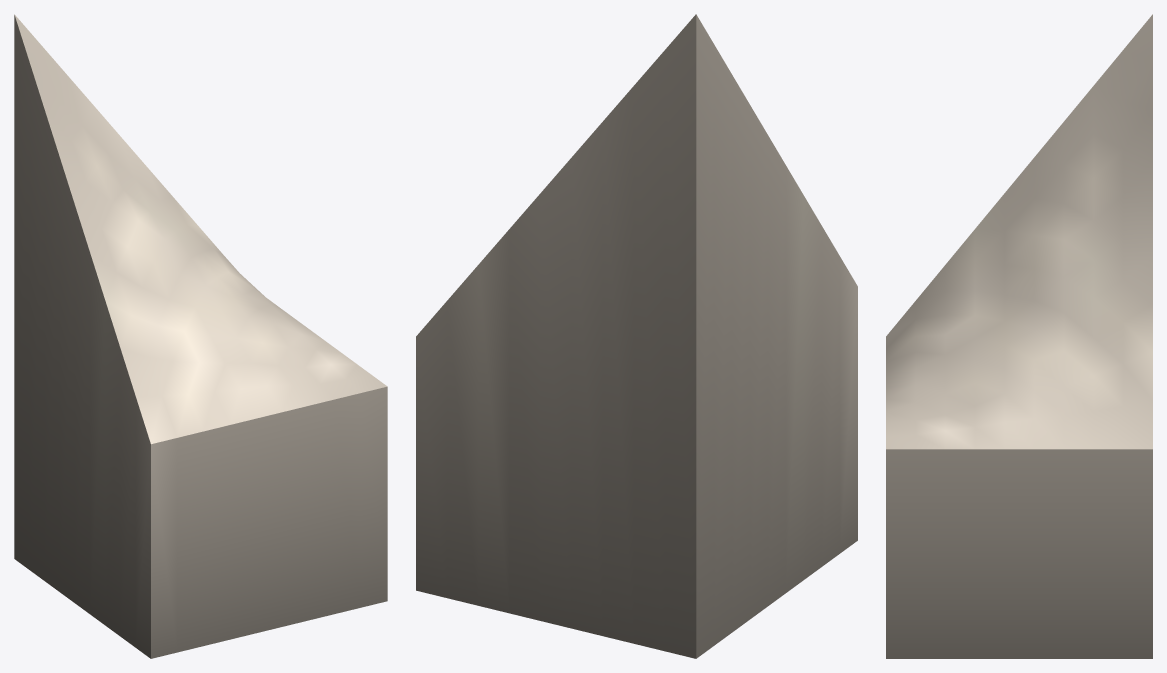
The model's file is SM_VKI_Rock_Cave_CCCF_B.fbx.
The picture shows the model from 3 angles, left to right: view 1: azimuth 30°, elevation 25°; view 2: azimuth 150°, elevation 25°; view 3: azimuth 270°, elevation 25°; orthographic projection. The views are drawn at different scales.
Visible parts, largest first — view 1: SM_VKI_Rock_Cave_CCCF_B.001; view 2: SM_VKI_Rock_Cave_CCCF_B.001; view 3: SM_VKI_Rock_Cave_CCCF_B.001.
Boxes of the visible parts, x1,y1,x2,y2 form: SM_VKI_Rock_Cave_CCCF_B.001: [14, 14, 387, 658]; SM_VKI_Rock_Cave_CCCF_B.001: [416, 14, 857, 658]; SM_VKI_Rock_Cave_CCCF_B.001: [886, 14, 1152, 658].
Size of the model in its own units: 1.5 by 3.3 by 1.5.
